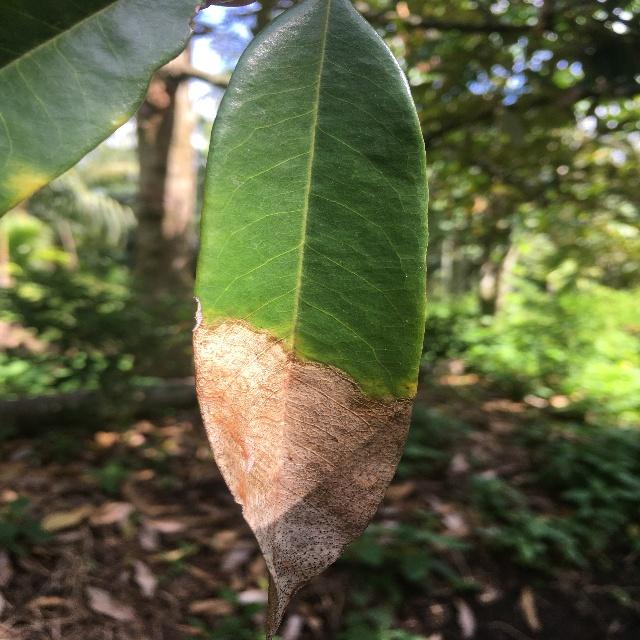Leaf Blight: (183, 0, 438, 640)
